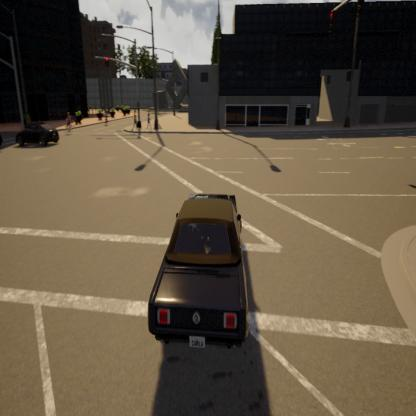Cars: (139, 183, 253, 349), (15, 119, 61, 150)
Pedestrian: (132, 104, 141, 134), (145, 106, 154, 132)
